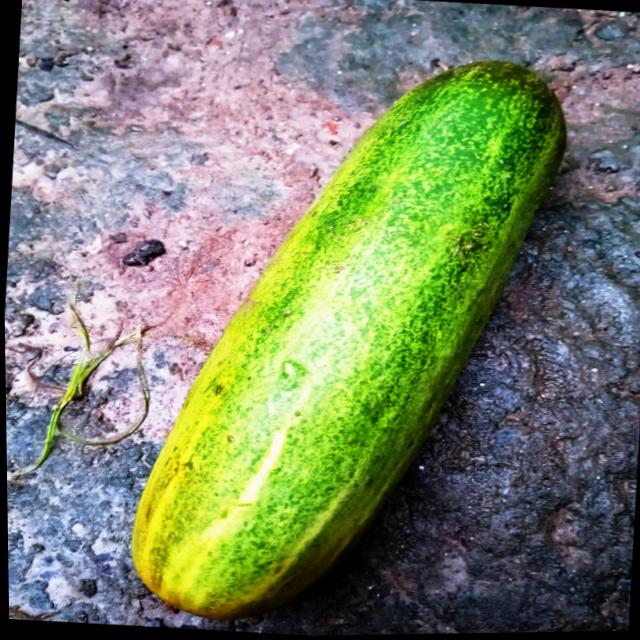Fresh-Cucumber: (113, 31, 578, 639)
